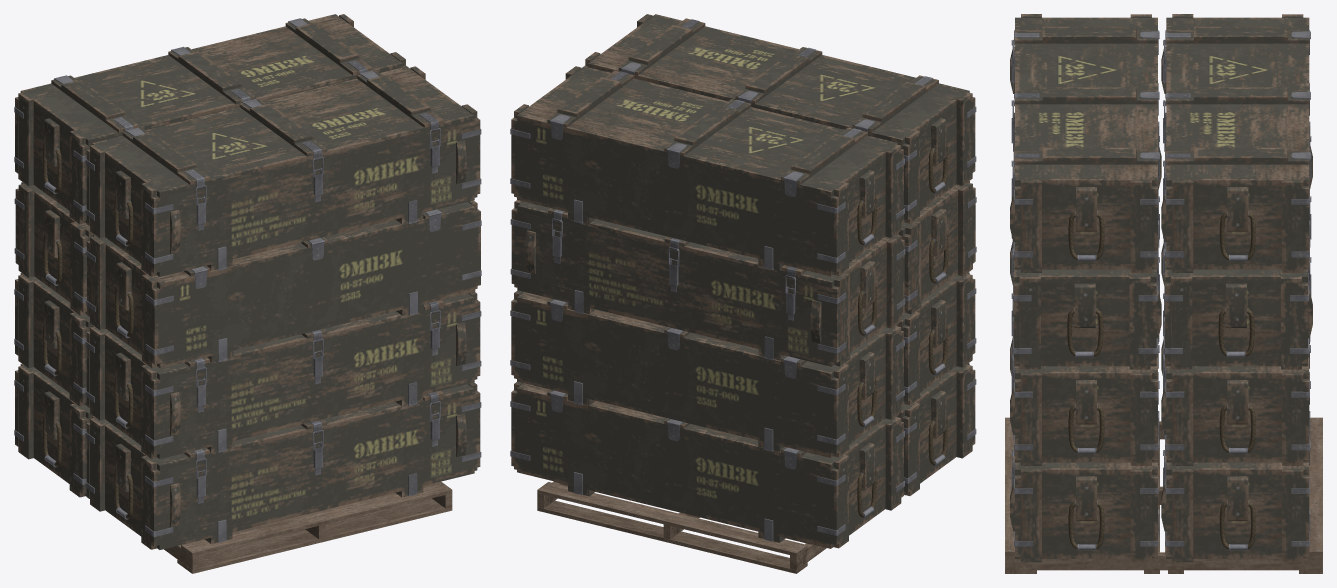
Rendered from SM_Crate_Stack_03.fbx.
3 renders of one model, left to right at view 1: azimuth 30°, elevation 25°; view 2: azimuth 150°, elevation 25°; view 3: azimuth 270°, elevation 25°, orthographic. The views are drawn at different scales.
Parts seen in each view (by area): view 1: SM_Crate_Stack_03_LOD0; view 2: SM_Crate_Stack_03_LOD0; view 3: SM_Crate_Stack_03_LOD0.
Boxes of the visible parts, x1,y1,x2,y2 form: SM_Crate_Stack_03_LOD0: (14, 14, 481, 573); SM_Crate_Stack_03_LOD0: (510, 14, 976, 573); SM_Crate_Stack_03_LOD0: (1005, 14, 1322, 573).
Size of the model in its own units: 202 by 160 by 230.
Materials: 1 (1 with a texture image).
